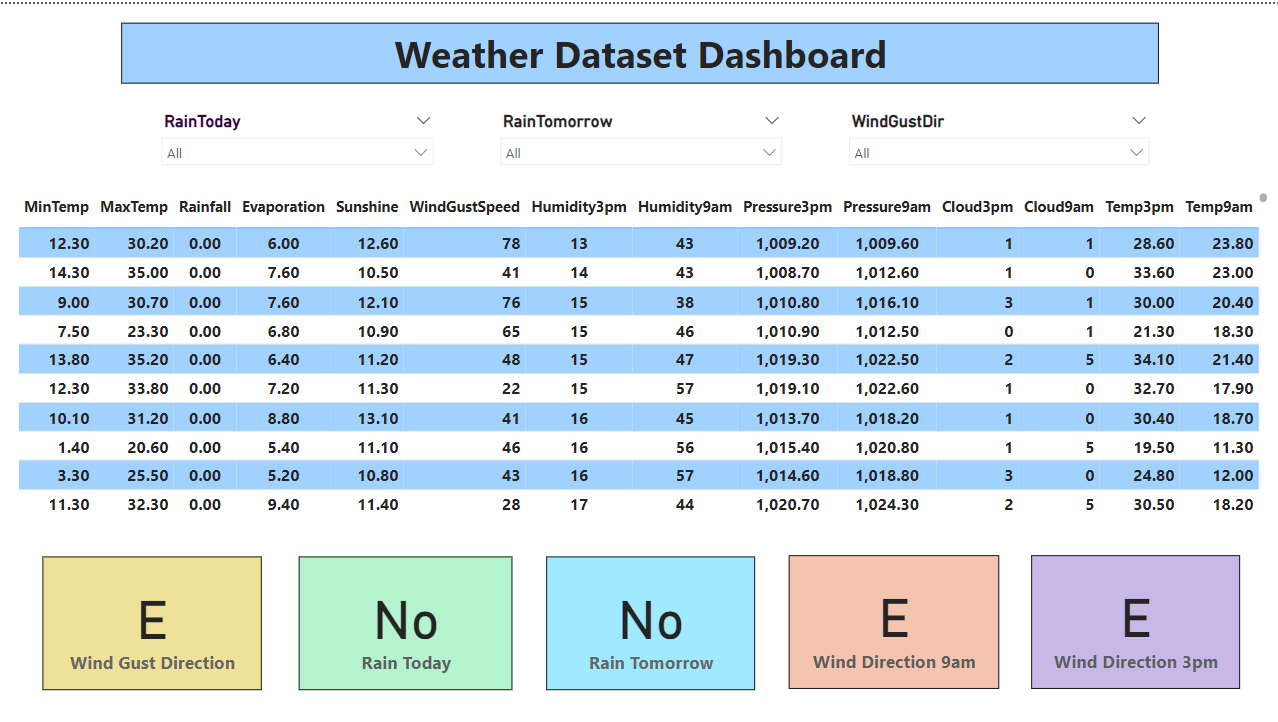

The page's visual inventory and layout, read from the dashboard file:
{"tool":"powerbi","page":{"name":"Page 1","canvas":[1280,720],"ordinal":0},"visuals":[{"type":"textbox","box":[121,18.3,1037.8,61.1],"z":0},{"type":"tableEx","fields":{"Values":["weather.MinTemp","weather.MaxTemp","weather.Rainfall","weather.Evaporation","weather.Sunshine","weather.WindGustSpeed","weather.Humidity3pm","weather.Humidity9am","weather.Pressure3pm","weather.Pressure9am","weather.Cloud3pm","weather.Cloud9am"]},"box":[12.2,183.4,1260.3,334.9],"z":1000},{"type":"card","fields":{"Values":["Min(weather.RainToday)"]},"box":[298.3,552.5,213.9,133.2],"z":2000},{"type":"card","fields":{"Values":["Min(weather.RainTomorrow)"]},"box":[546.4,552.5,209,133.2],"z":3000},{"type":"card","fields":{"Values":["Min(weather.WindGustDir)"]},"box":[42.8,552.5,218.8,133.2],"z":4000},{"type":"card","fields":{"Values":["Min(weather.WindDir9am)"]},"box":[788.5,551.3,210.3,133.2],"z":5000},{"type":"card","fields":{"Values":["Min(weather.WindDir3pm)"]},"box":[1031.7,551.3,209,133.2],"z":6000},{"type":"slicer","fields":{"Values":["weather.RainToday"]},"box":[151.6,102.7,292.2,69.7],"z":7000},{"type":"slicer","fields":{"Values":["weather.RainTomorrow"]},"box":[490.2,102.7,301.9,69.7],"z":8000},{"type":"slicer","fields":{"Values":["weather.WindGustDir"]},"box":[838.6,102.7,320.3,69.7],"z":9000}]}

Visuals, with their boxes in screenshot pixels (x1, y1, x2, y2), scaled from the page's 1280x720 canvas onto the 1278x722 screenshot:
textbox: box(121, 18, 1157, 80)
tableEx - weather.MinTemp x weather.MaxTemp: box(12, 184, 1271, 520)
card - Min(weather.RainToday): box(298, 554, 511, 688)
card - Min(weather.RainTomorrow): box(546, 554, 754, 688)
card - Min(weather.WindGustDir): box(43, 554, 261, 688)
card - Min(weather.WindDir9am): box(787, 553, 997, 686)
card - Min(weather.WindDir3pm): box(1030, 553, 1239, 686)
slicer - weather.RainToday: box(151, 103, 443, 173)
slicer - weather.RainTomorrow: box(489, 103, 791, 173)
slicer - weather.WindGustDir: box(837, 103, 1157, 173)
